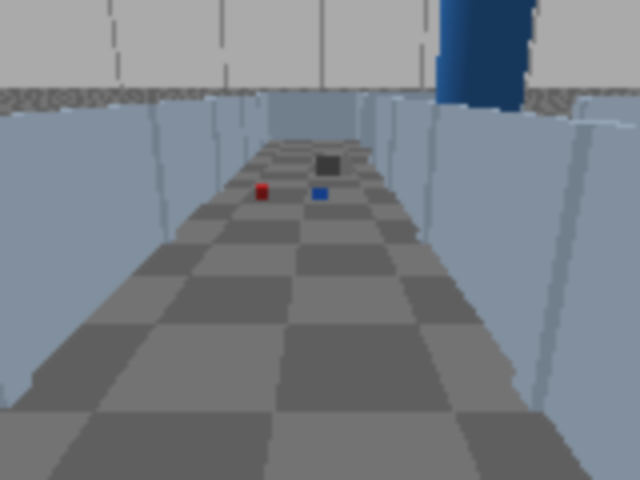obstacle: (317, 153, 353, 177)
